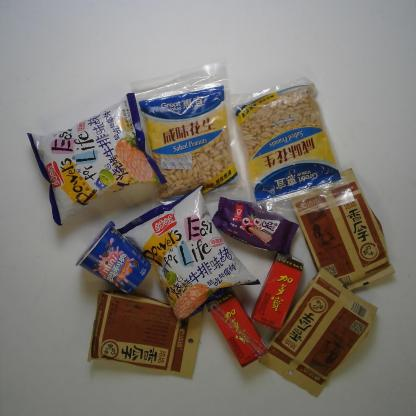Dessert: (72, 219, 156, 298), (206, 190, 303, 258)
Dried Food: (256, 264, 383, 402), (287, 164, 397, 293), (84, 281, 210, 381)
Dried Fruit: (123, 58, 249, 215), (225, 75, 354, 226)
Drink: (201, 289, 270, 370), (247, 252, 310, 334)
Puffed Food: (110, 182, 263, 329), (25, 92, 173, 230)
